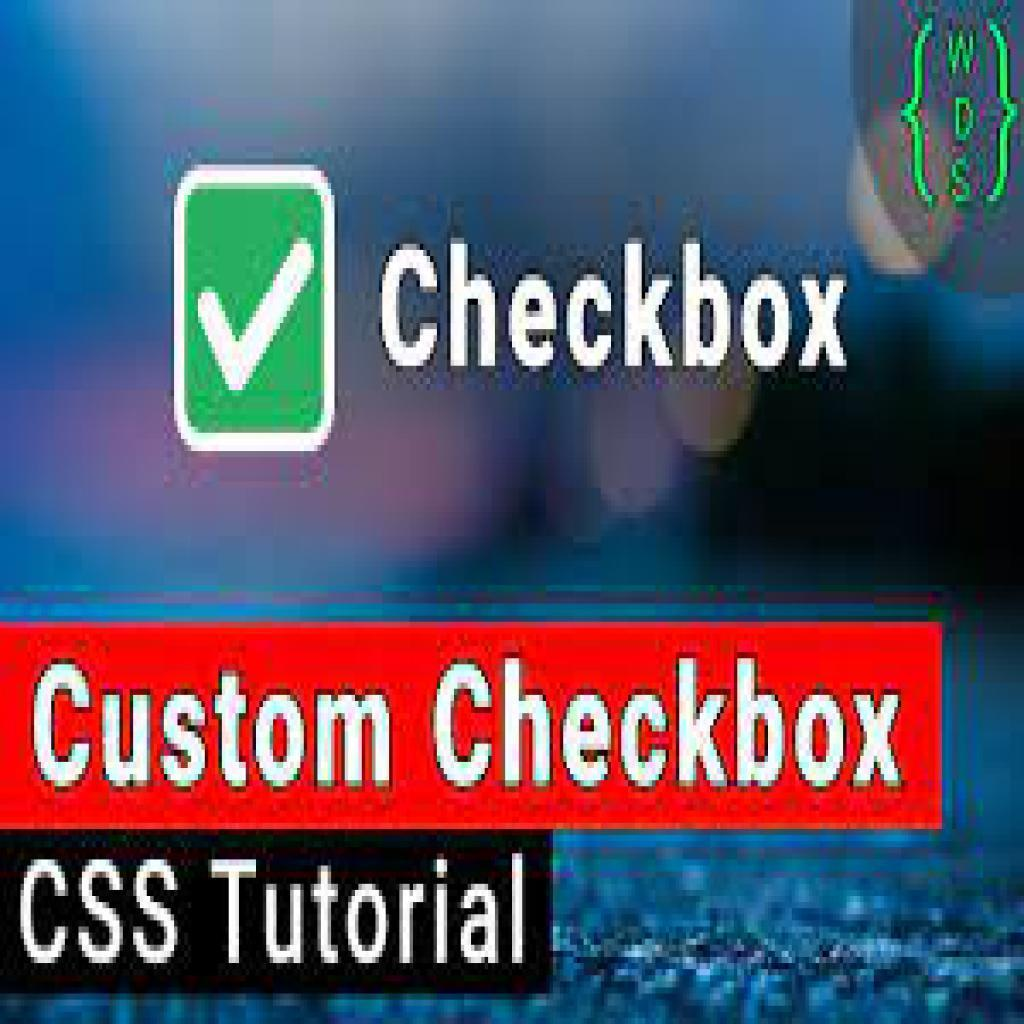checkbox: (172, 170, 335, 452)
